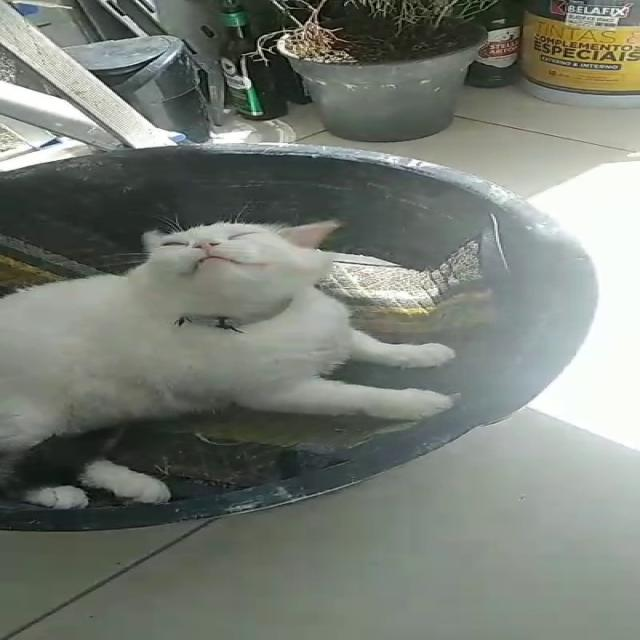Simba: (11, 203, 489, 522)
